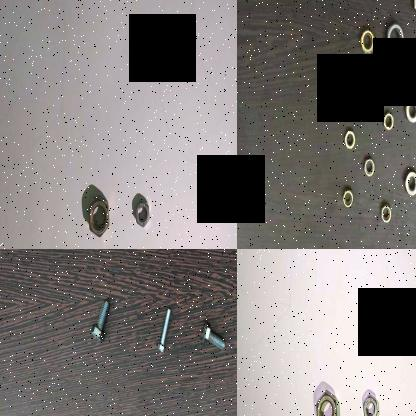Bolts: (87, 296, 114, 341), (150, 306, 176, 351), (199, 316, 226, 352)
NUTS: (86, 195, 110, 239), (384, 17, 406, 57), (312, 384, 338, 416), (358, 24, 376, 61), (132, 197, 154, 226), (360, 388, 381, 416), (380, 192, 394, 232), (403, 167, 416, 201), (403, 97, 416, 127), (341, 126, 356, 152), (363, 152, 375, 178), (340, 188, 354, 210), (382, 108, 393, 134)
